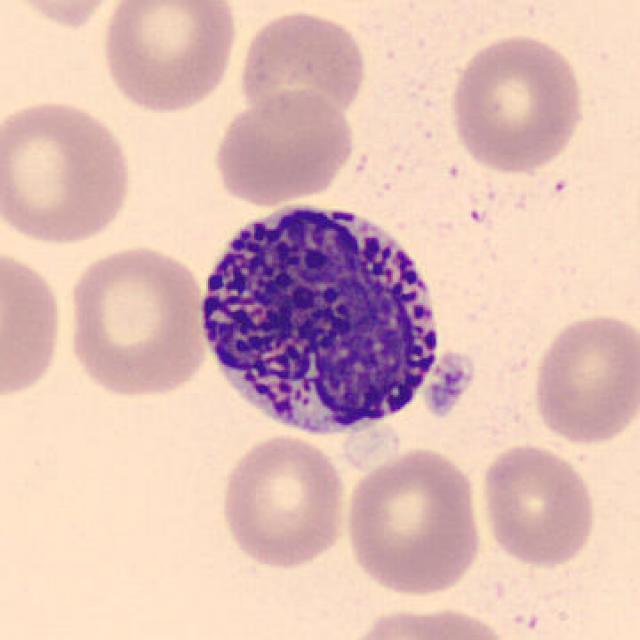Basophil: (188, 188, 464, 448)
Platelets: (422, 349, 476, 414)
RBC: (62, 242, 212, 402), (342, 442, 486, 600), (0, 95, 139, 249), (446, 30, 588, 176), (215, 432, 352, 573), (208, 86, 359, 206), (96, 0, 242, 116), (234, 7, 370, 123), (477, 441, 599, 569), (528, 308, 638, 448), (0, 243, 66, 404), (340, 603, 516, 640), (4, 0, 128, 32)
